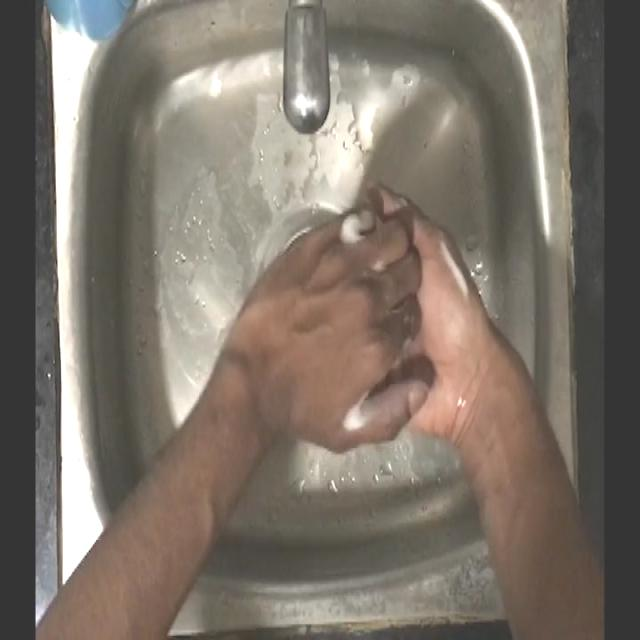step_4: (238, 184, 482, 458)
